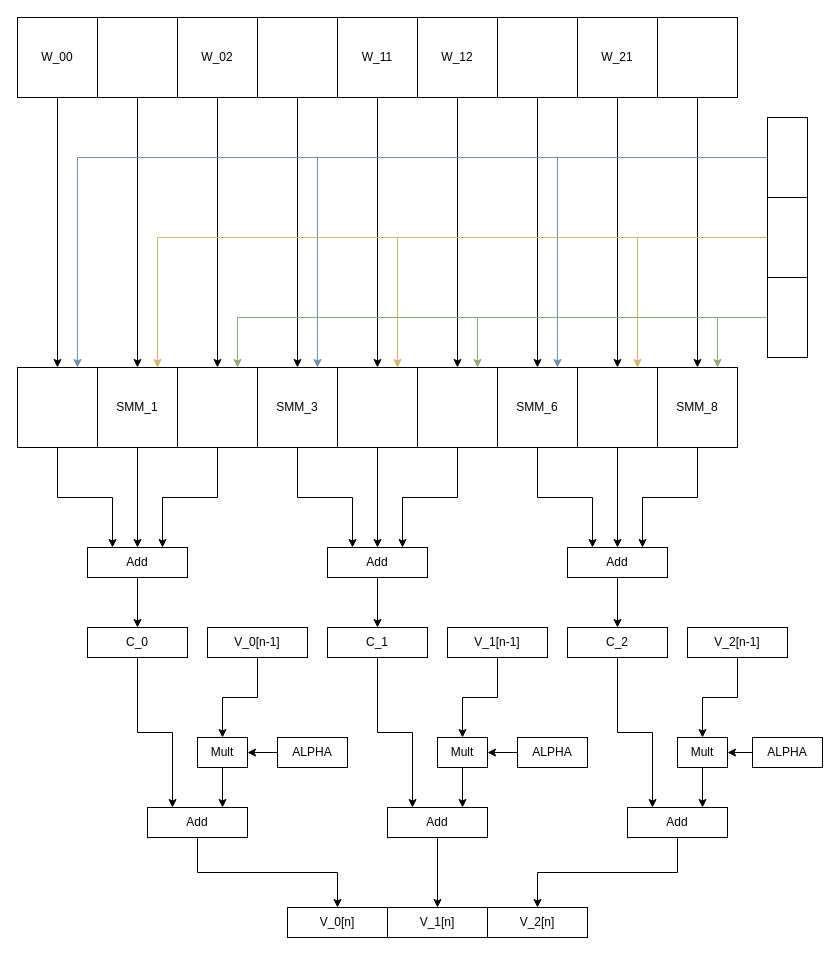
Some shapes in this 840 by 955 pixel diagram are drawn without their labels. Here are the shapes that lost their labels. From the top down, the centre of each, then its label:
[137,57]: W_01
[297,57]: W_10
[537,57]: W_20
[697,57]: W_22
[787,157]: S_0
[787,237]: S_1
[787,317]: S_2
[57,407]: SMM_0
[217,407]: SMM_2
[377,407]: SMM_4
[457,407]: SMM_5
[617,407]: SMM_7
